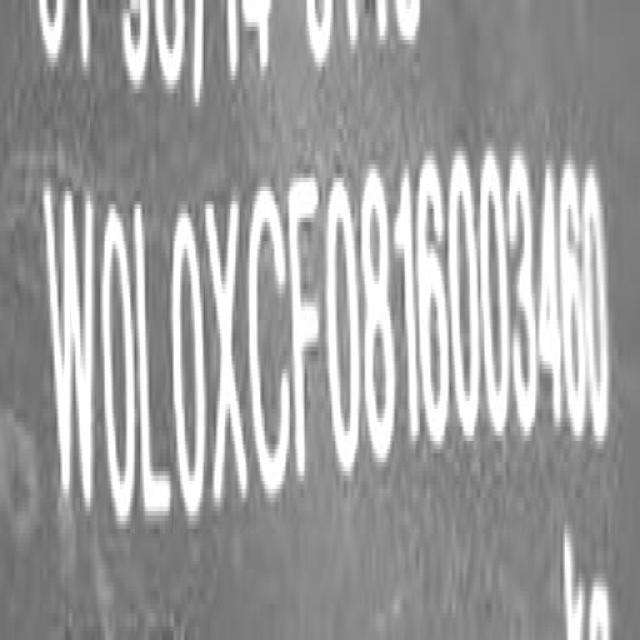0: (101, 194, 139, 536), (170, 198, 208, 531), (326, 166, 362, 485), (450, 146, 482, 447), (480, 146, 510, 443), (585, 162, 615, 447)
1: (395, 158, 420, 466)
3: (509, 149, 540, 443)
4: (539, 151, 565, 442)
6: (416, 152, 451, 458), (558, 156, 586, 445)
8: (364, 163, 398, 471)
C: (248, 186, 292, 510)
F: (289, 180, 326, 492)
L: (133, 195, 168, 532)
W: (44, 184, 98, 536)
X: (207, 191, 248, 521)
